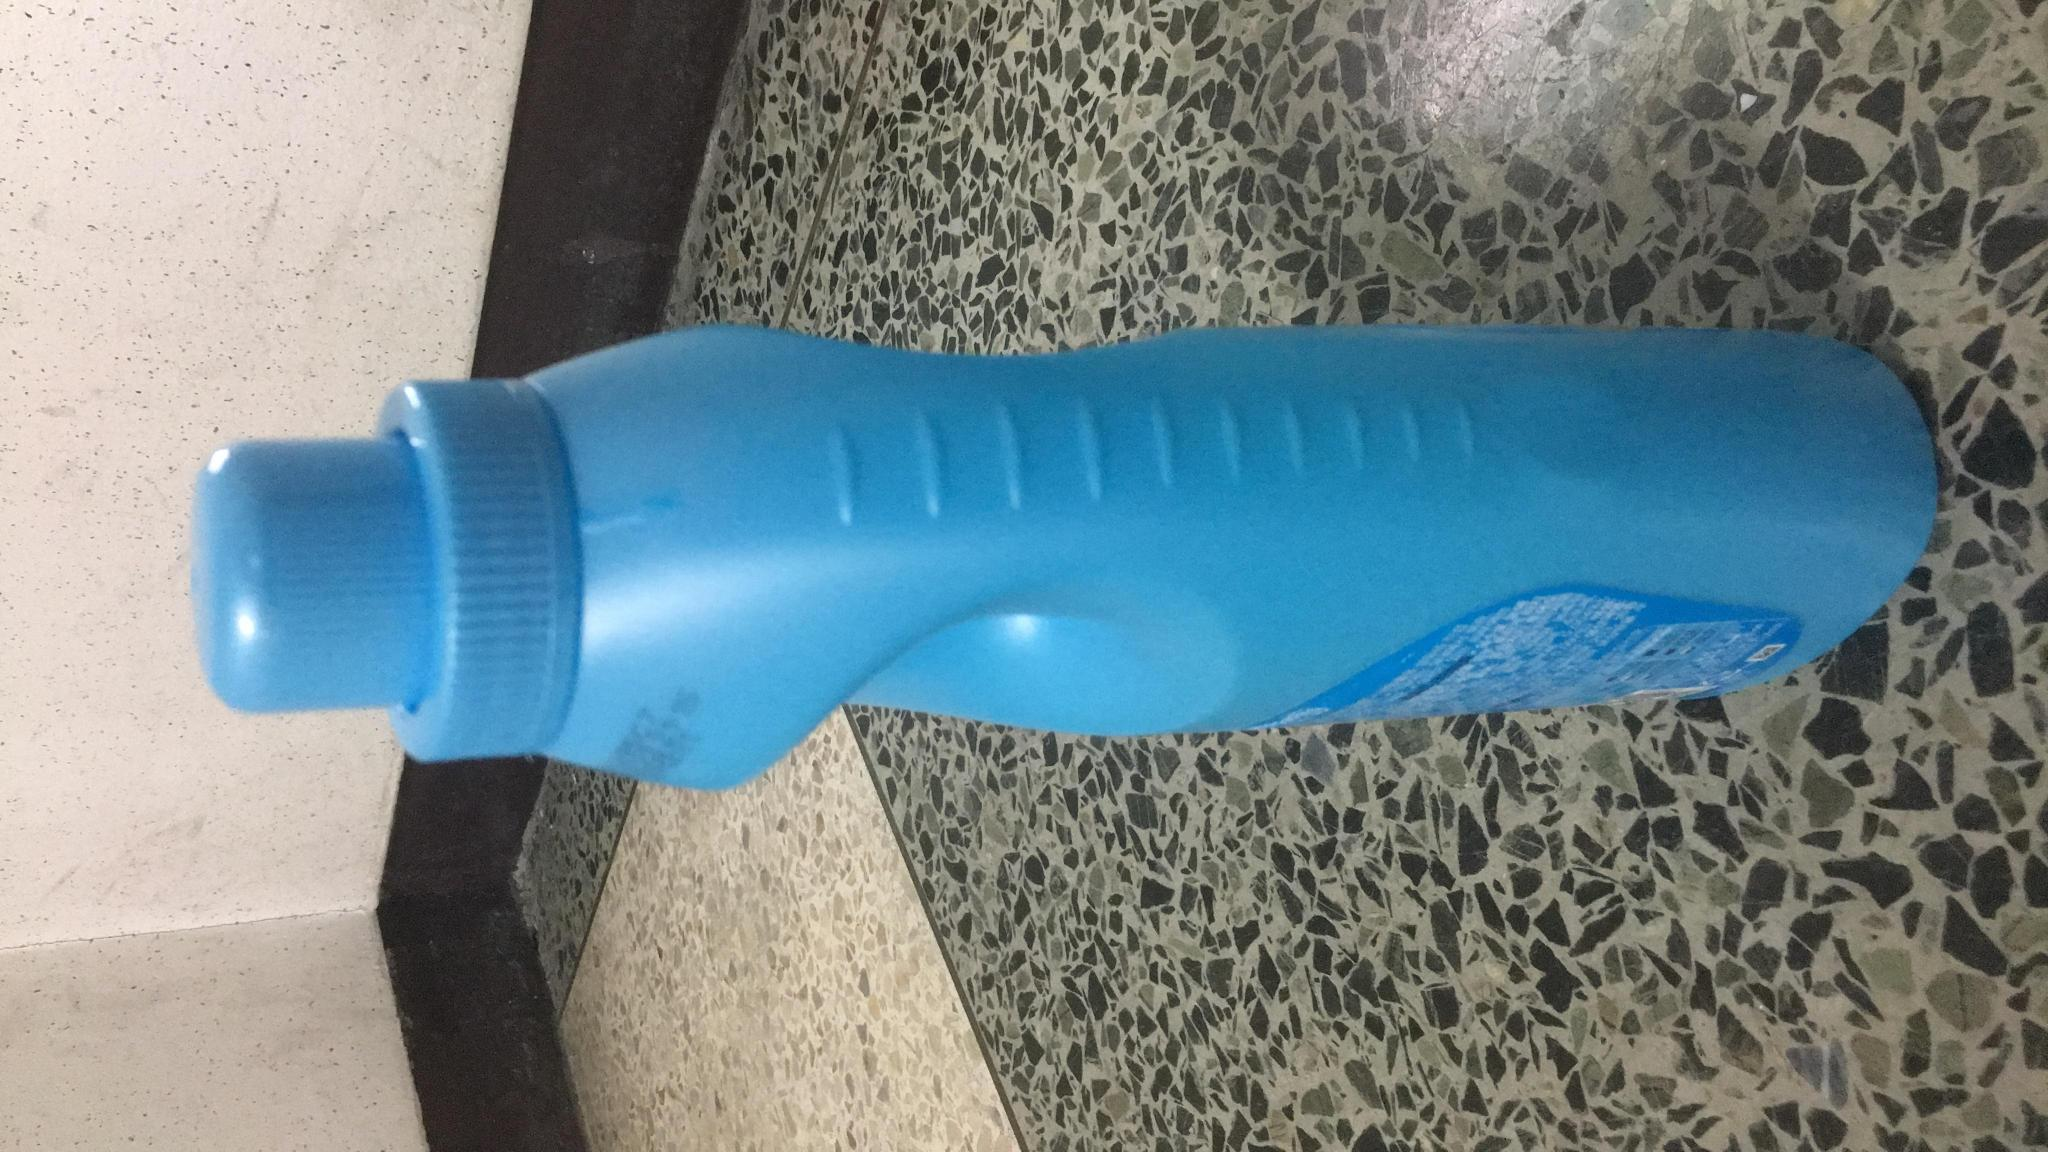bottle: (188, 309, 1952, 819)
